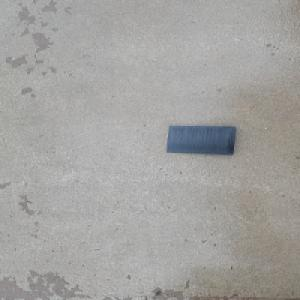PlasticPart: (165, 124, 237, 155)
